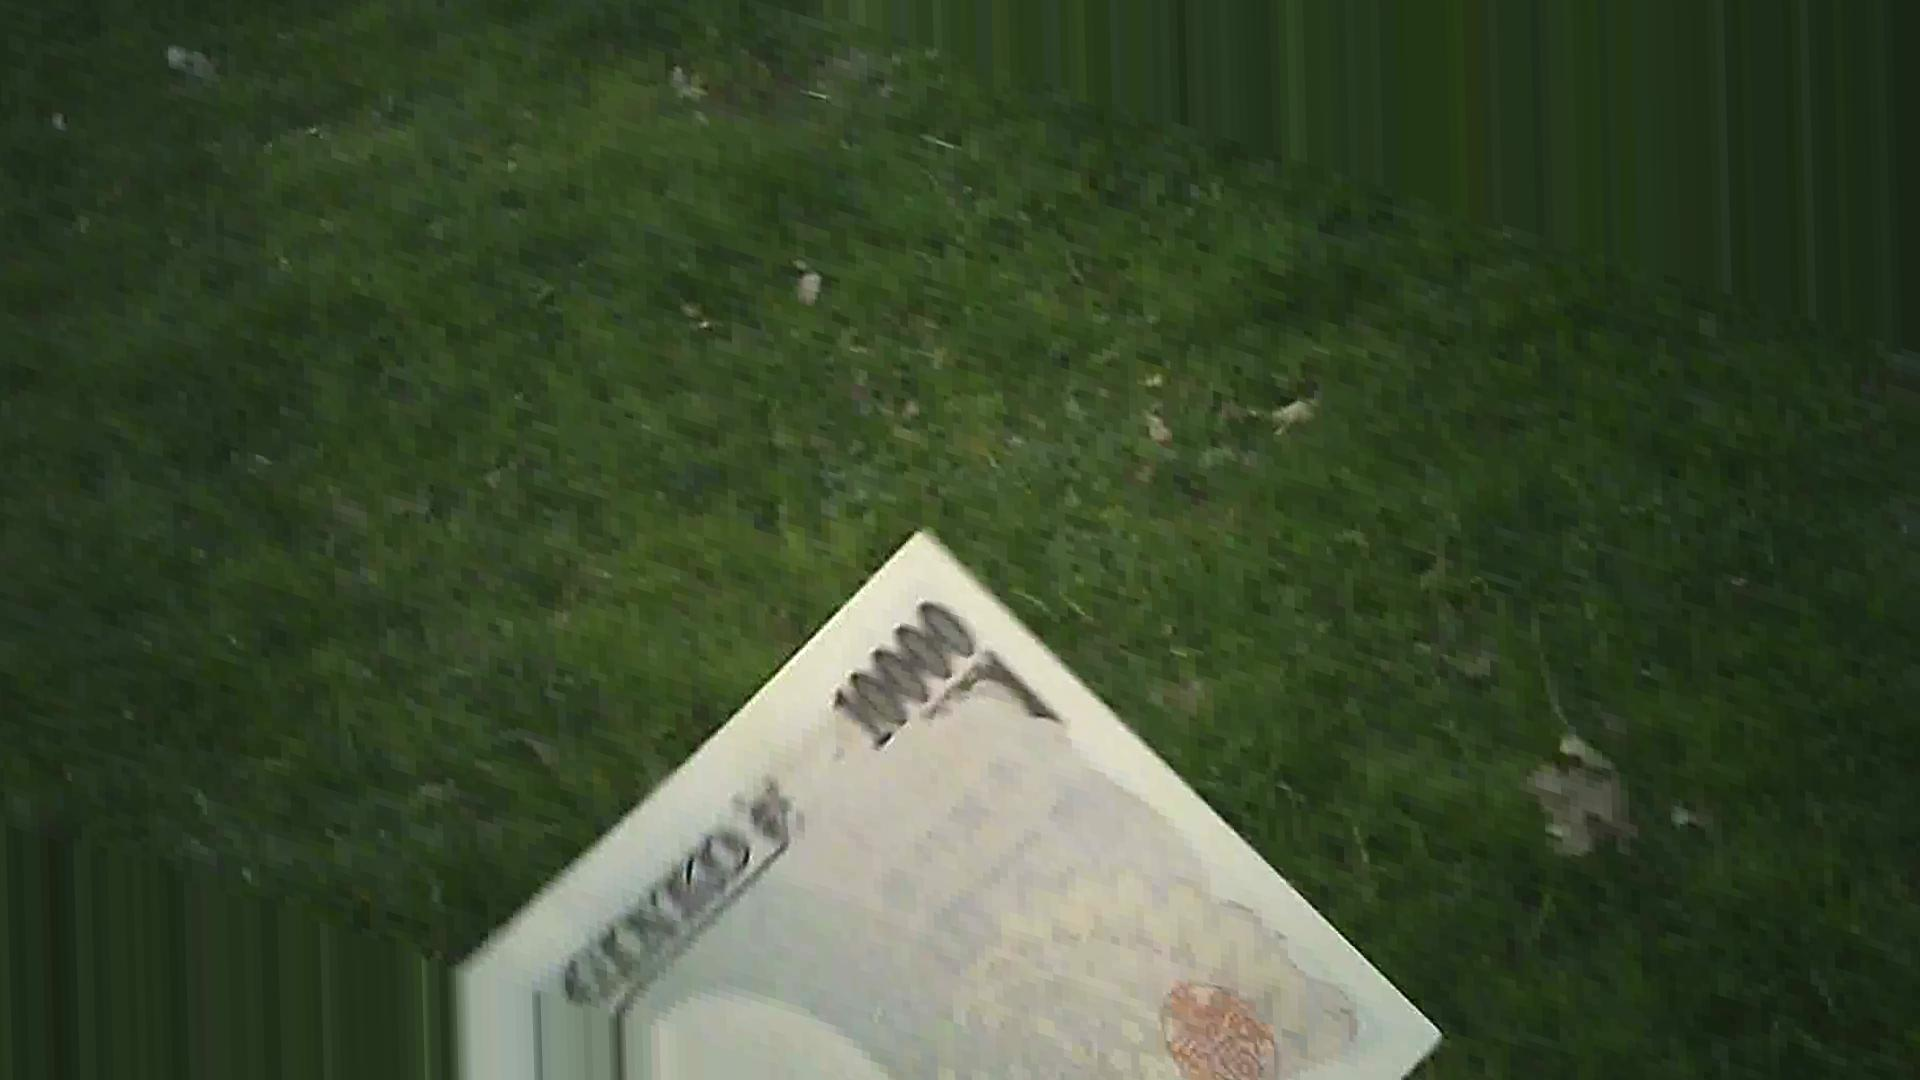10,000 Yen: (456, 530, 1466, 1073)
